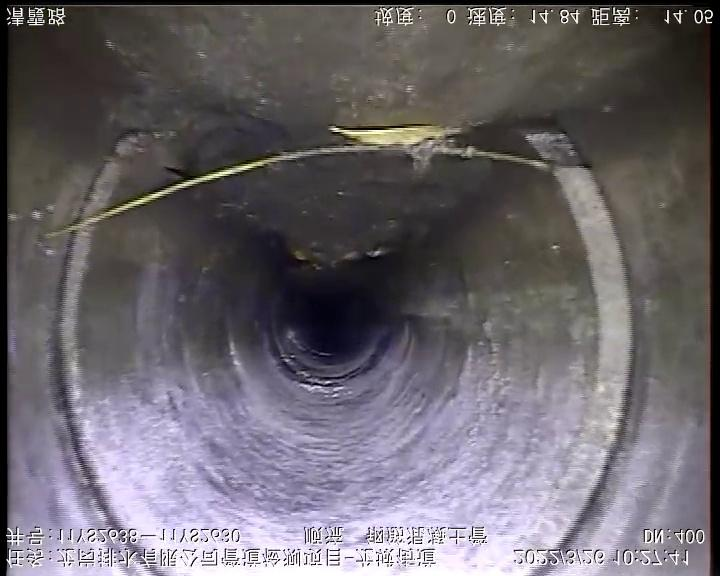CKTJ: (487, 128, 642, 576), (51, 128, 176, 575)
